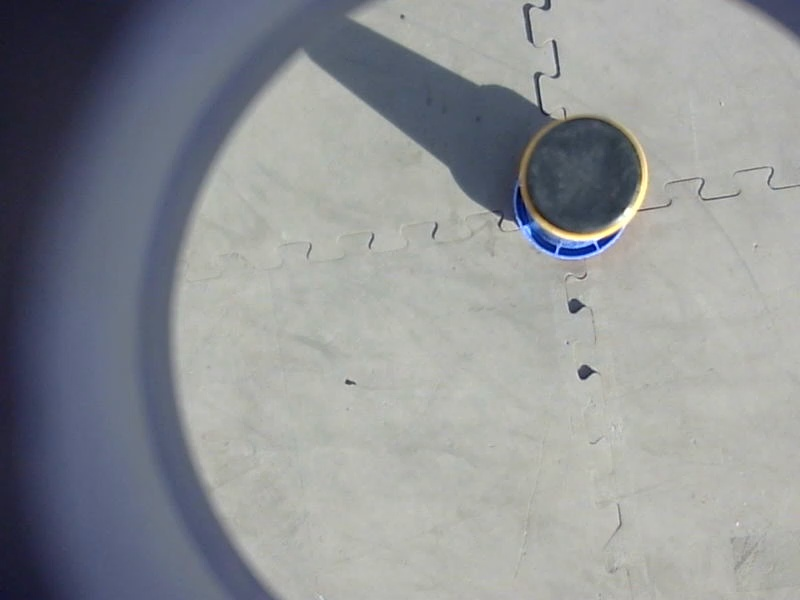tip: (511, 108, 654, 248)
